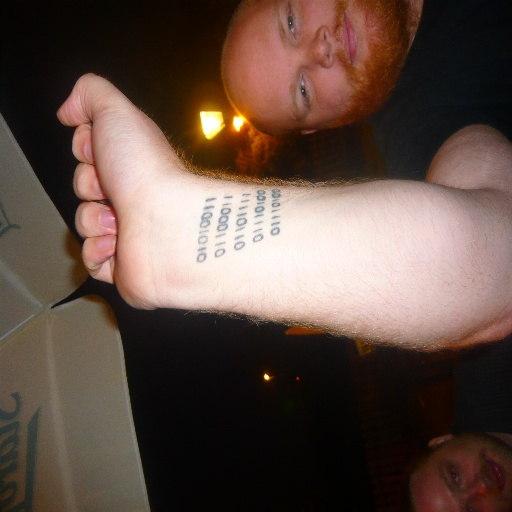hand: (56, 70, 181, 303)
